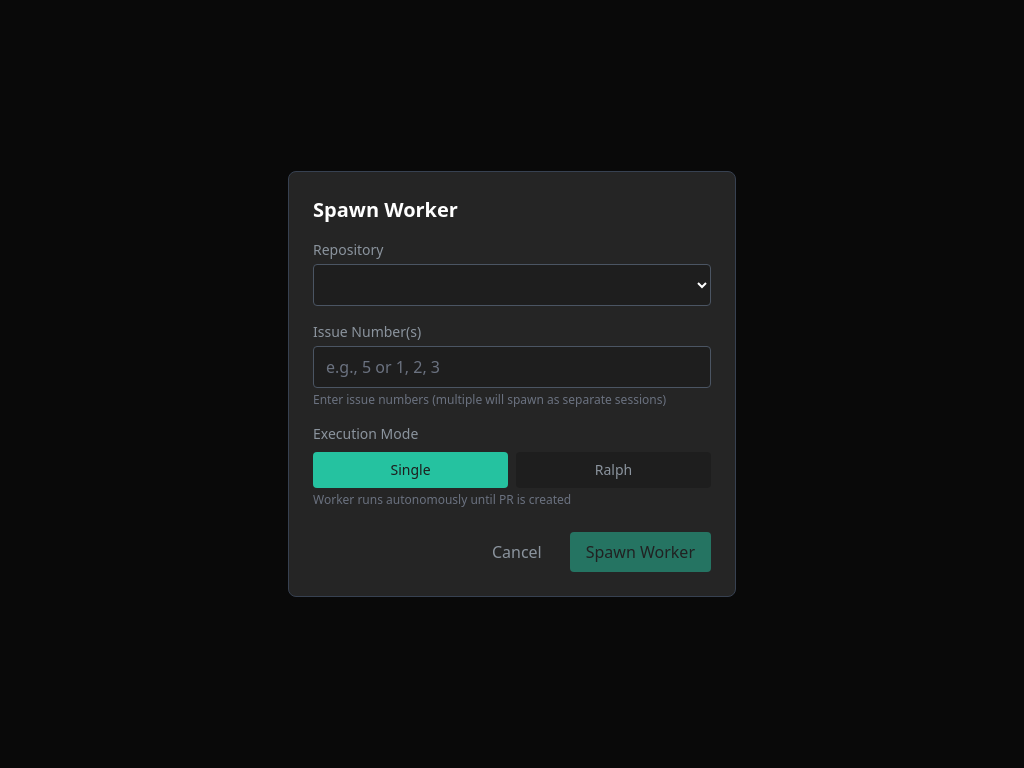
SpawnDialog › shows validation error for invalid issue number
Check: the dropdown is shown, box [313,264,711,306]
Type "0" into the field with placeholder "e.g., 5 or 1, 2, 3" at {"x": 512, "y": 367}, box [313,346,711,388]
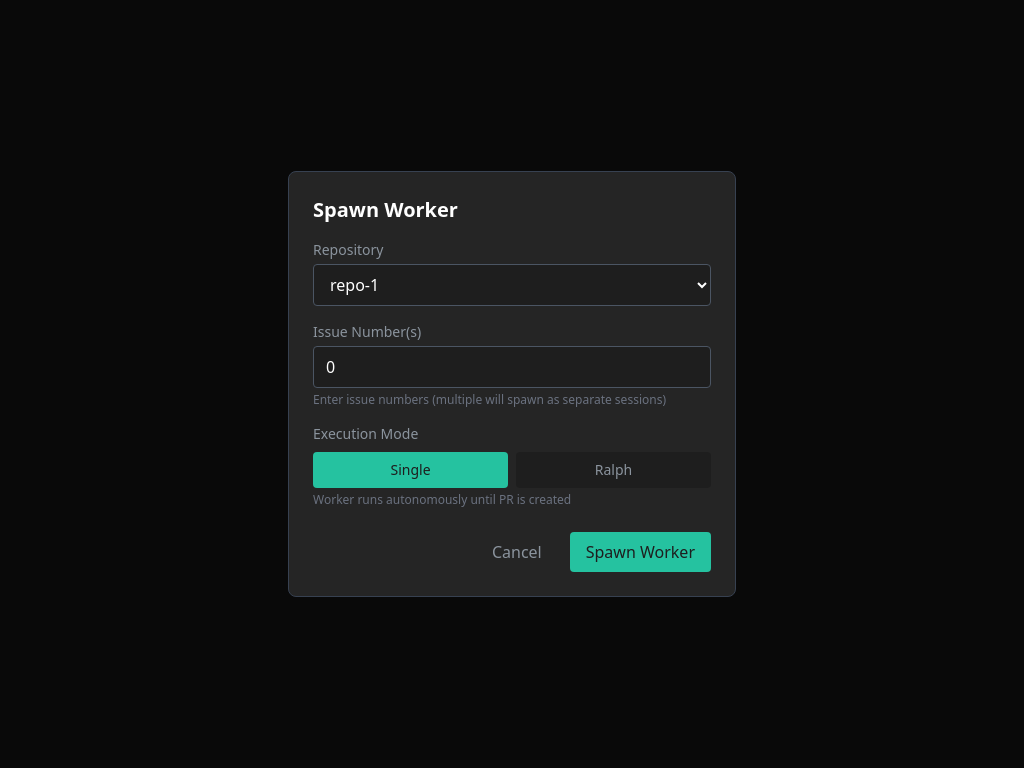
Note: Submit the form directly using querySelector
Submit the form, box [313,240,711,572]
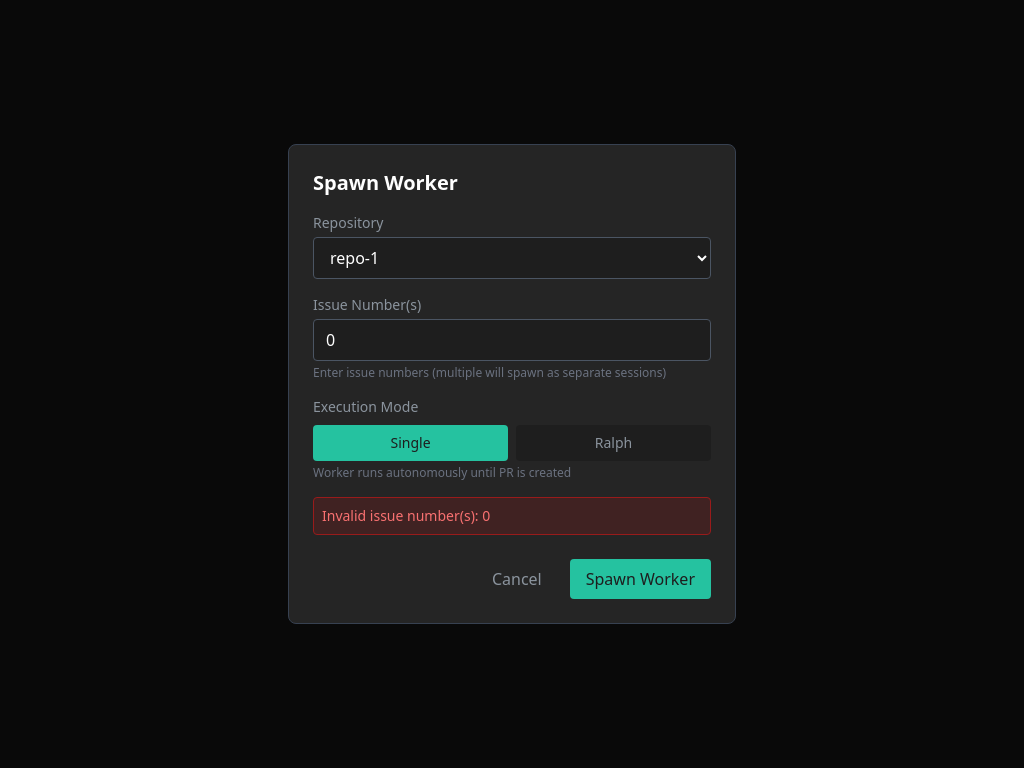
Check: the text "Invalid issue number(s): 0" is shown, box [313,497,711,535]
